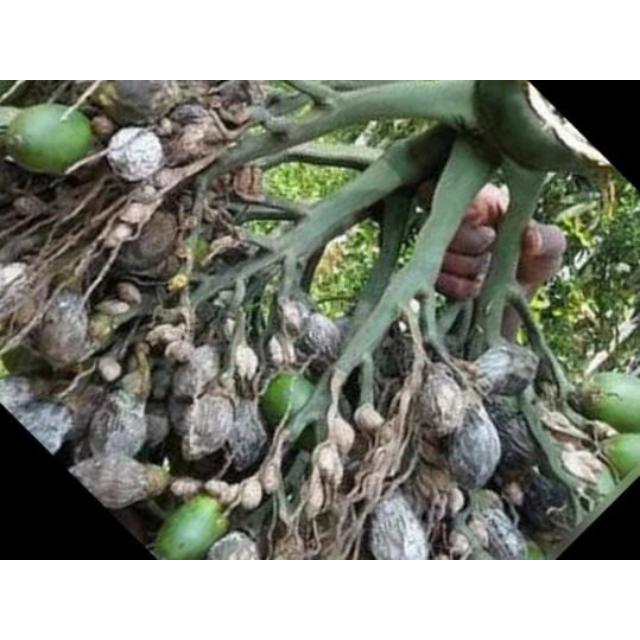damaged: (412, 370, 464, 434)
